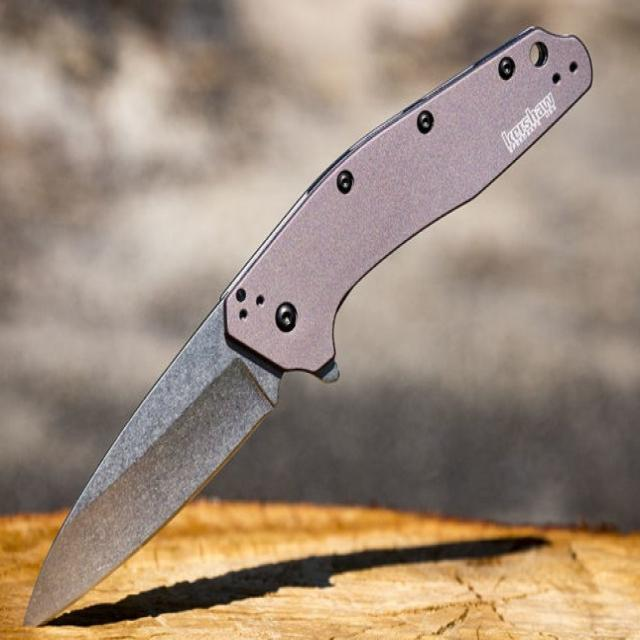knife: (19, 8, 600, 633)
